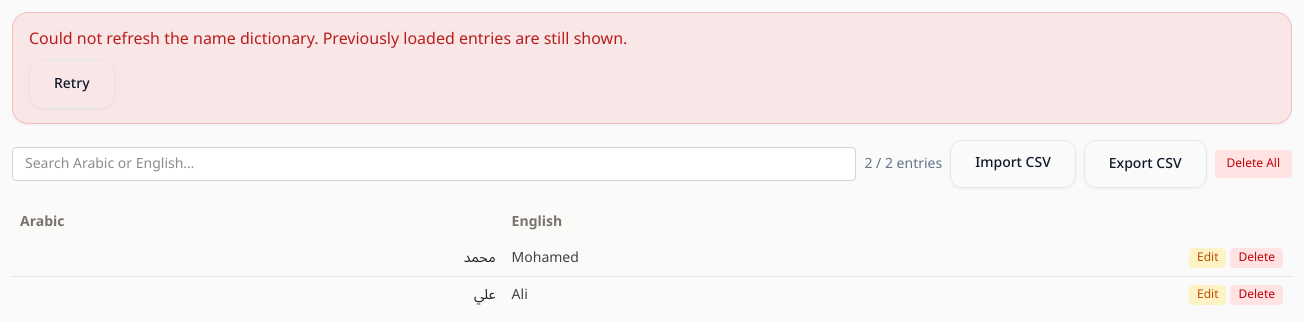
Test: Settings dictionary › keeps existing rows after a failed background refresh
This screenshot has width=1304, height=322.
Expected: the text "Previously loaded entries" is shown, [29, 22, 627, 56]
Expected: the text "Mohamed" is shown, [504, 240, 1180, 276]
Step 1. Click the button "Retry" → click(72, 84), box [29, 60, 115, 108]
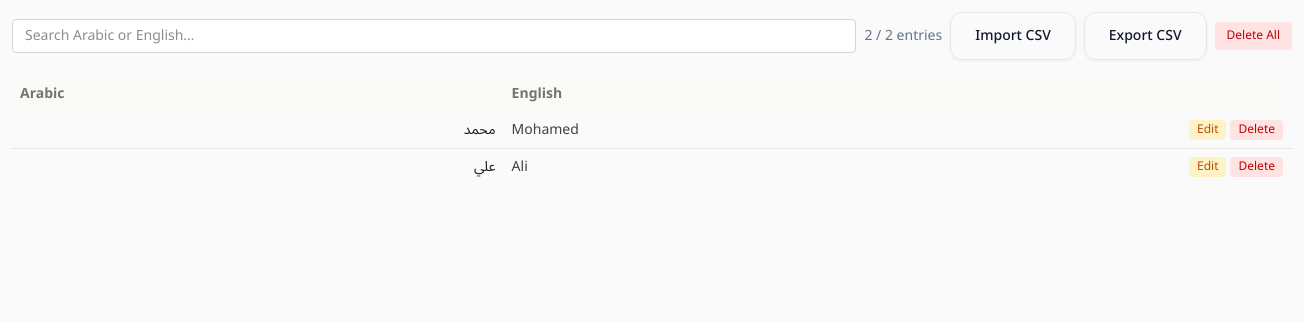
Expected: the text "Previously loaded entries" is gone
